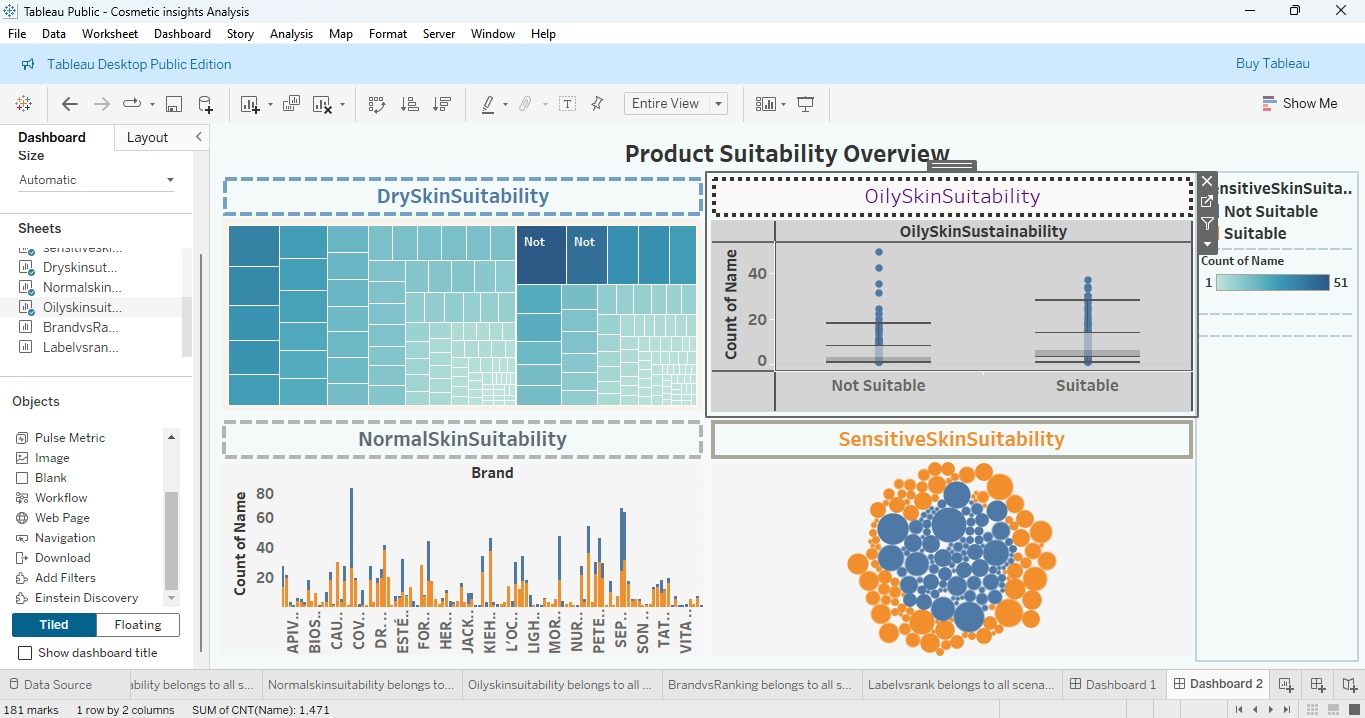

The page's visual inventory and layout, read from the dashboard file:
{"tool":"tableau","page":{"name":"Dashboard 2","canvas":[1000,1000],"units":"permille","ordinal":1},"visuals":[{"type":"title","box":[6.9,14.7,986.1,75.4]},{"type":"worksheet","title":"Dryskinsutability belongs to all scenarios","mark":"Automatic","box":[6.9,90.1,423.8,447.6]},{"type":"worksheet","title":"Oilyskinsuitability belongs to all scenarios","mark":"Circle","rows":["Name"],"cols":["Calculation_233342779227639814"],"box":[430.7,90.1,423.8,447.6]},{"type":"legend","title":"sensitiveskin belongs to all scenarios","param":"[federated.186qhqw1r5hyl615t013z1gjae3n].[none:Calculation_233342779223543808:nk","box":[854.5,90.1,138.5,137.9]},{"type":"legend","title":"Dryskinsutability belongs to all scenarios","param":"[federated.186qhqw1r5hyl615t013z1gjae3n].[cnt:Name:qk]","box":[854.5,228,138.5,119.5]},{"type":"legend","title":"Oilyskinsuitability belongs to all scenarios","param":"[federated.186qhqw1r5hyl615t013z1gjae3n].[none:Brand:nk]","box":[854.5,347.4,138.5,40.5]},{"type":"worksheet","title":"Normalskinsuitability belongs to scenario 1 and 3","mark":"Automatic","rows":["Name"],"cols":["Brand"],"box":[6.9,537.7,423.8,447.6]},{"type":"worksheet","title":"sensitiveskin belongs to all scenarios","mark":"Circle","box":[430.7,537.7,423.8,447.6]}]}

Visuals, with their boxes on the dashboard's canvas, which has no fixed pixel size, in thousandths of its width and height (x1, y1, x2, y2). These are canvas units, not pixel positions in the 1365x718 screenshot, which may show the page scaled, cropped or inside an application window:
title: locate(7, 15, 993, 90)
"Dryskinsutability belongs to all scenarios" worksheet: locate(7, 90, 431, 538)
"Oilyskinsuitability belongs to all scenarios" worksheet (Circle marks): locate(431, 90, 854, 538)
"sensitiveskin belongs to all scenarios" legend: locate(854, 90, 993, 228)
"Dryskinsutability belongs to all scenarios" legend: locate(854, 228, 993, 348)
"Oilyskinsuitability belongs to all scenarios" legend: locate(854, 347, 993, 388)
"Normalskinsuitability belongs to scenario 1 and 3" worksheet: locate(7, 538, 431, 985)
"sensitiveskin belongs to all scenarios" worksheet (Circle marks): locate(431, 538, 854, 985)
